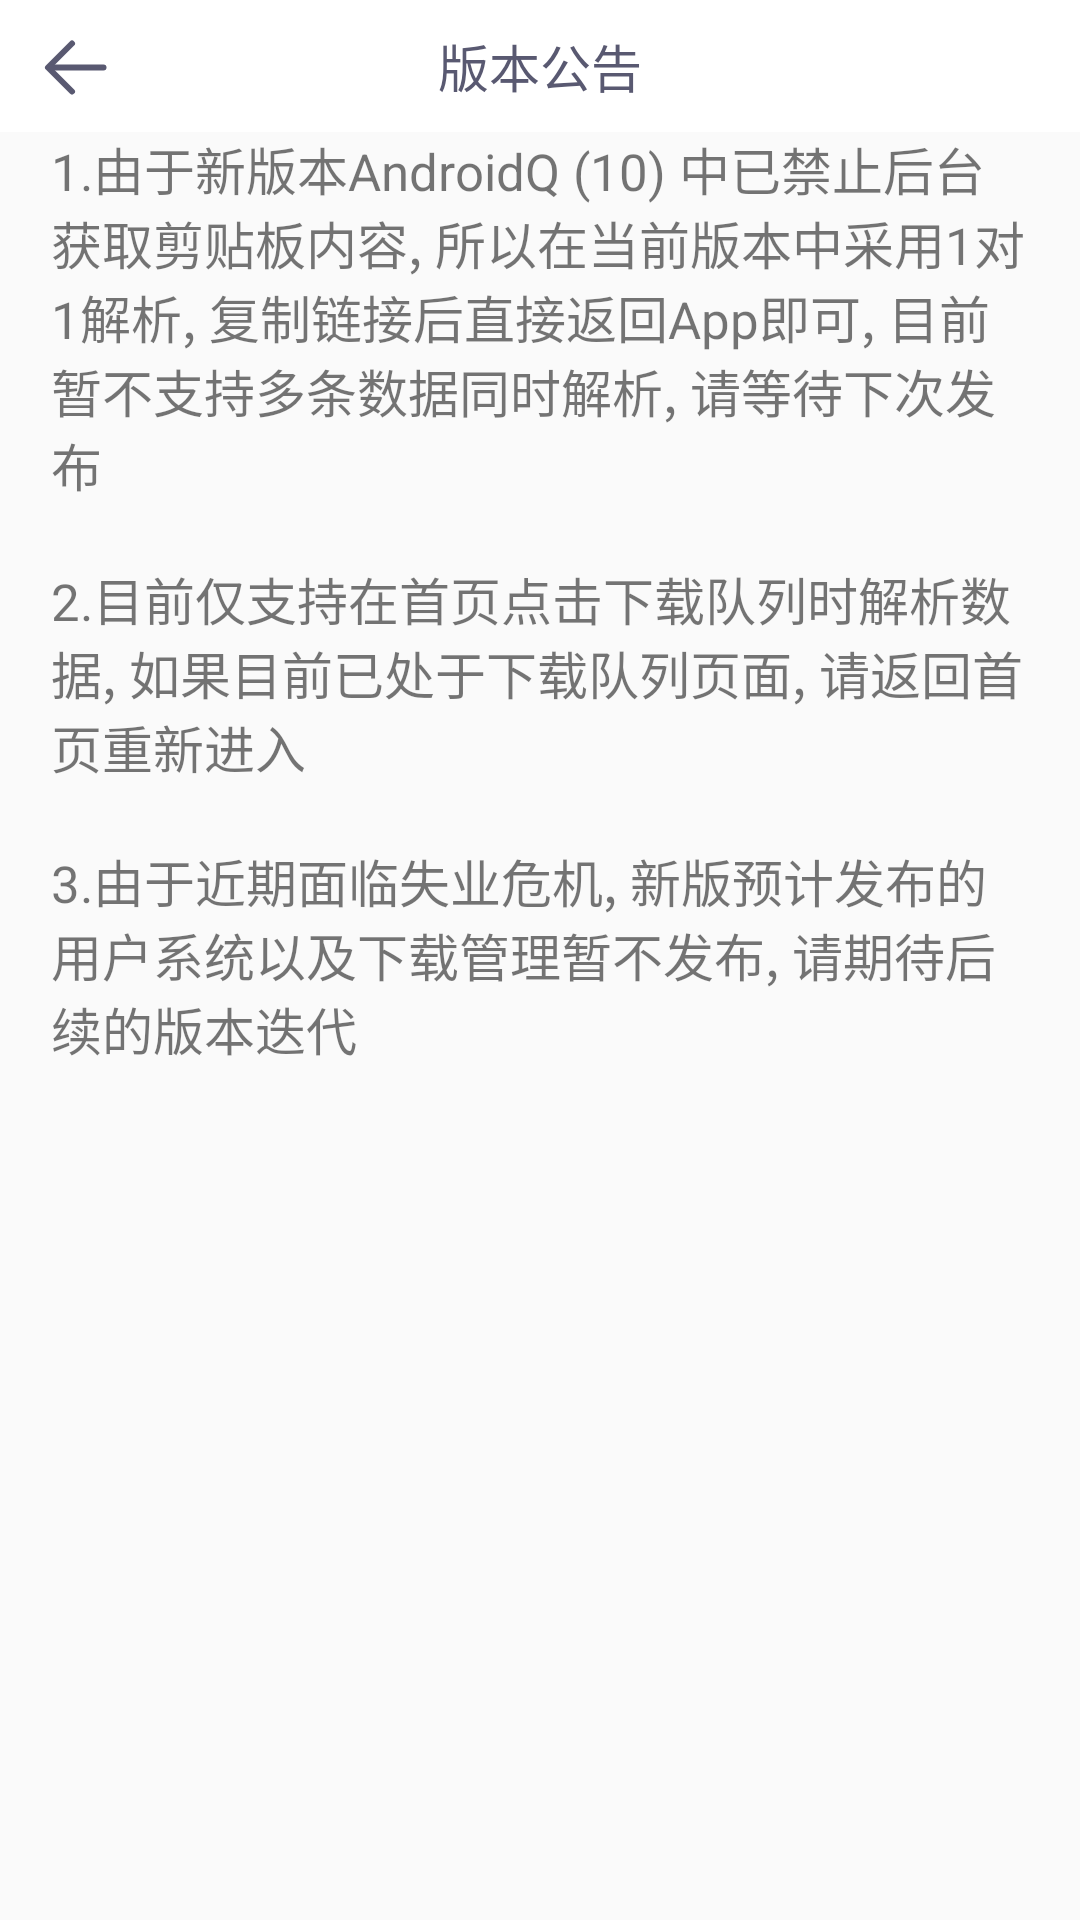

Icon click points for this 1080x1920 phone screenshot, format (x,y):
back: (76,67)
